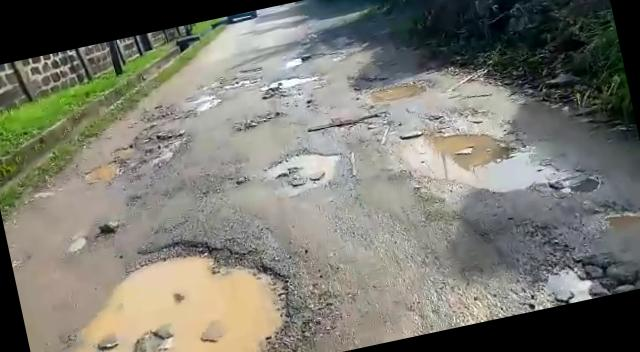pothole: (43, 214, 316, 352), (388, 102, 568, 220), (507, 241, 640, 314), (77, 121, 196, 190), (265, 144, 344, 196), (355, 72, 431, 110), (309, 108, 389, 138), (257, 70, 318, 97), (230, 108, 290, 134)
